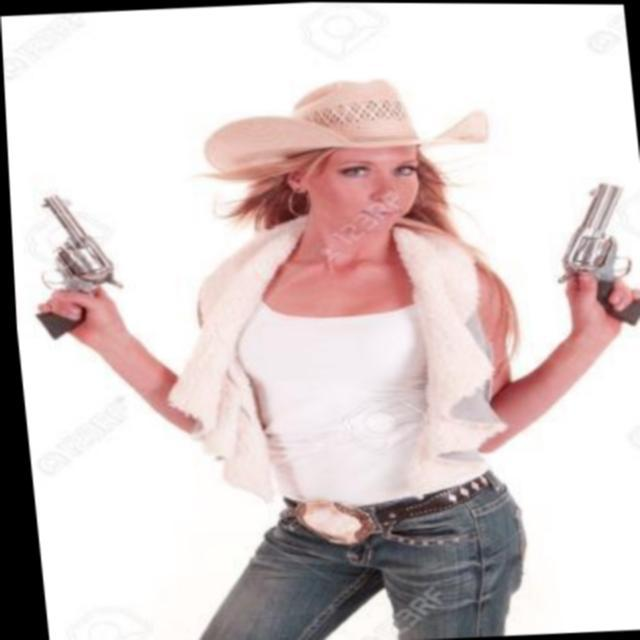weapon: (14, 187, 140, 349), (540, 173, 640, 335)
